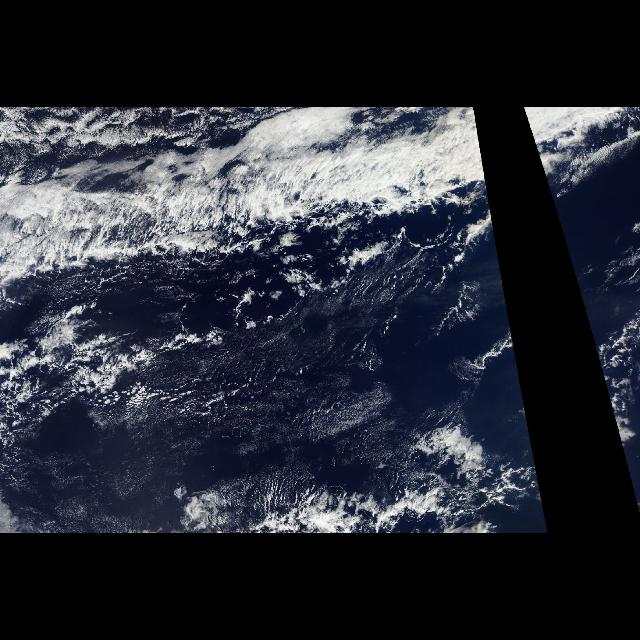Fish: (8, 108, 470, 310)
Sugar: (2, 268, 506, 530)
